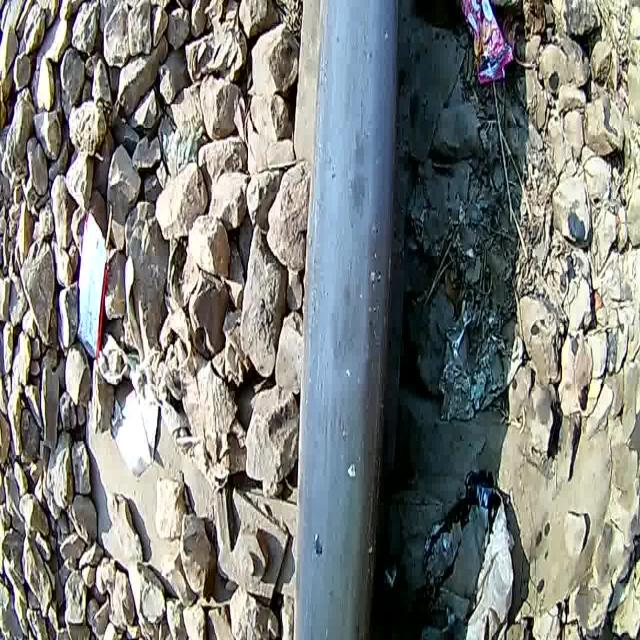Squats: (271, 0, 419, 640)
